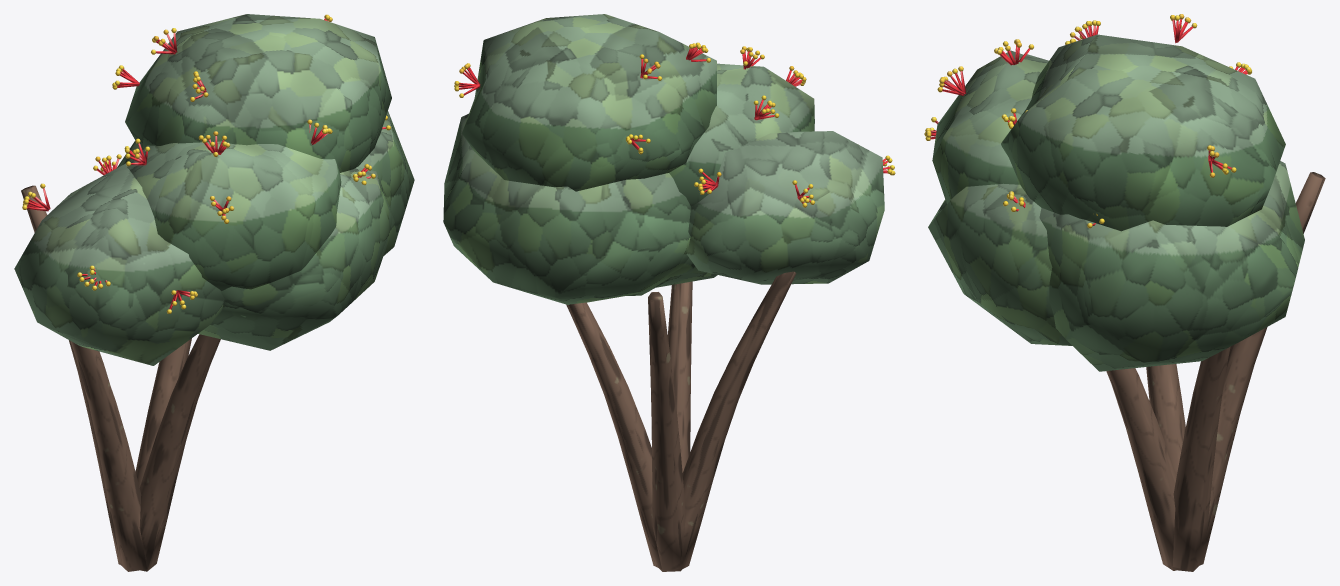
File: ohia.glb
3 renders of one model, left to right at view 1: azimuth 30°, elevation 25°; view 2: azimuth 150°, elevation 25°; view 3: azimuth 270°, elevation 25°, orthographic. The views are drawn at different scales.
Parts seen in each view (by area): view 1: Ohia_leaf, OhiaStems, OhiaFlowers; view 2: Ohia_leaf, OhiaStems, OhiaFlowers; view 3: Ohia_leaf, OhiaStems, OhiaFlowers.
Part boxes in pixels (x1,y1,x2,y2): Ohia_leaf: (14, 14, 414, 365); OhiaStems: (21, 185, 220, 571); OhiaFlowers: (22, 14, 390, 313); Ohia_leaf: (443, 14, 884, 304); OhiaStems: (566, 271, 796, 571); OhiaFlowers: (454, 42, 895, 207); Ohia_leaf: (928, 34, 1304, 371); OhiaStems: (1106, 172, 1325, 571); OhiaFlowers: (924, 14, 1251, 228).
Size of the model in its own units: 1.17 by 1.5 by 0.9602.
Materials: 1 (1 with a texture image).
